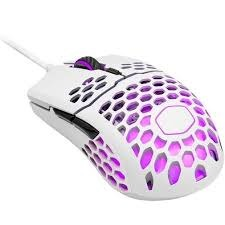mouse: (19, 46, 225, 205)
